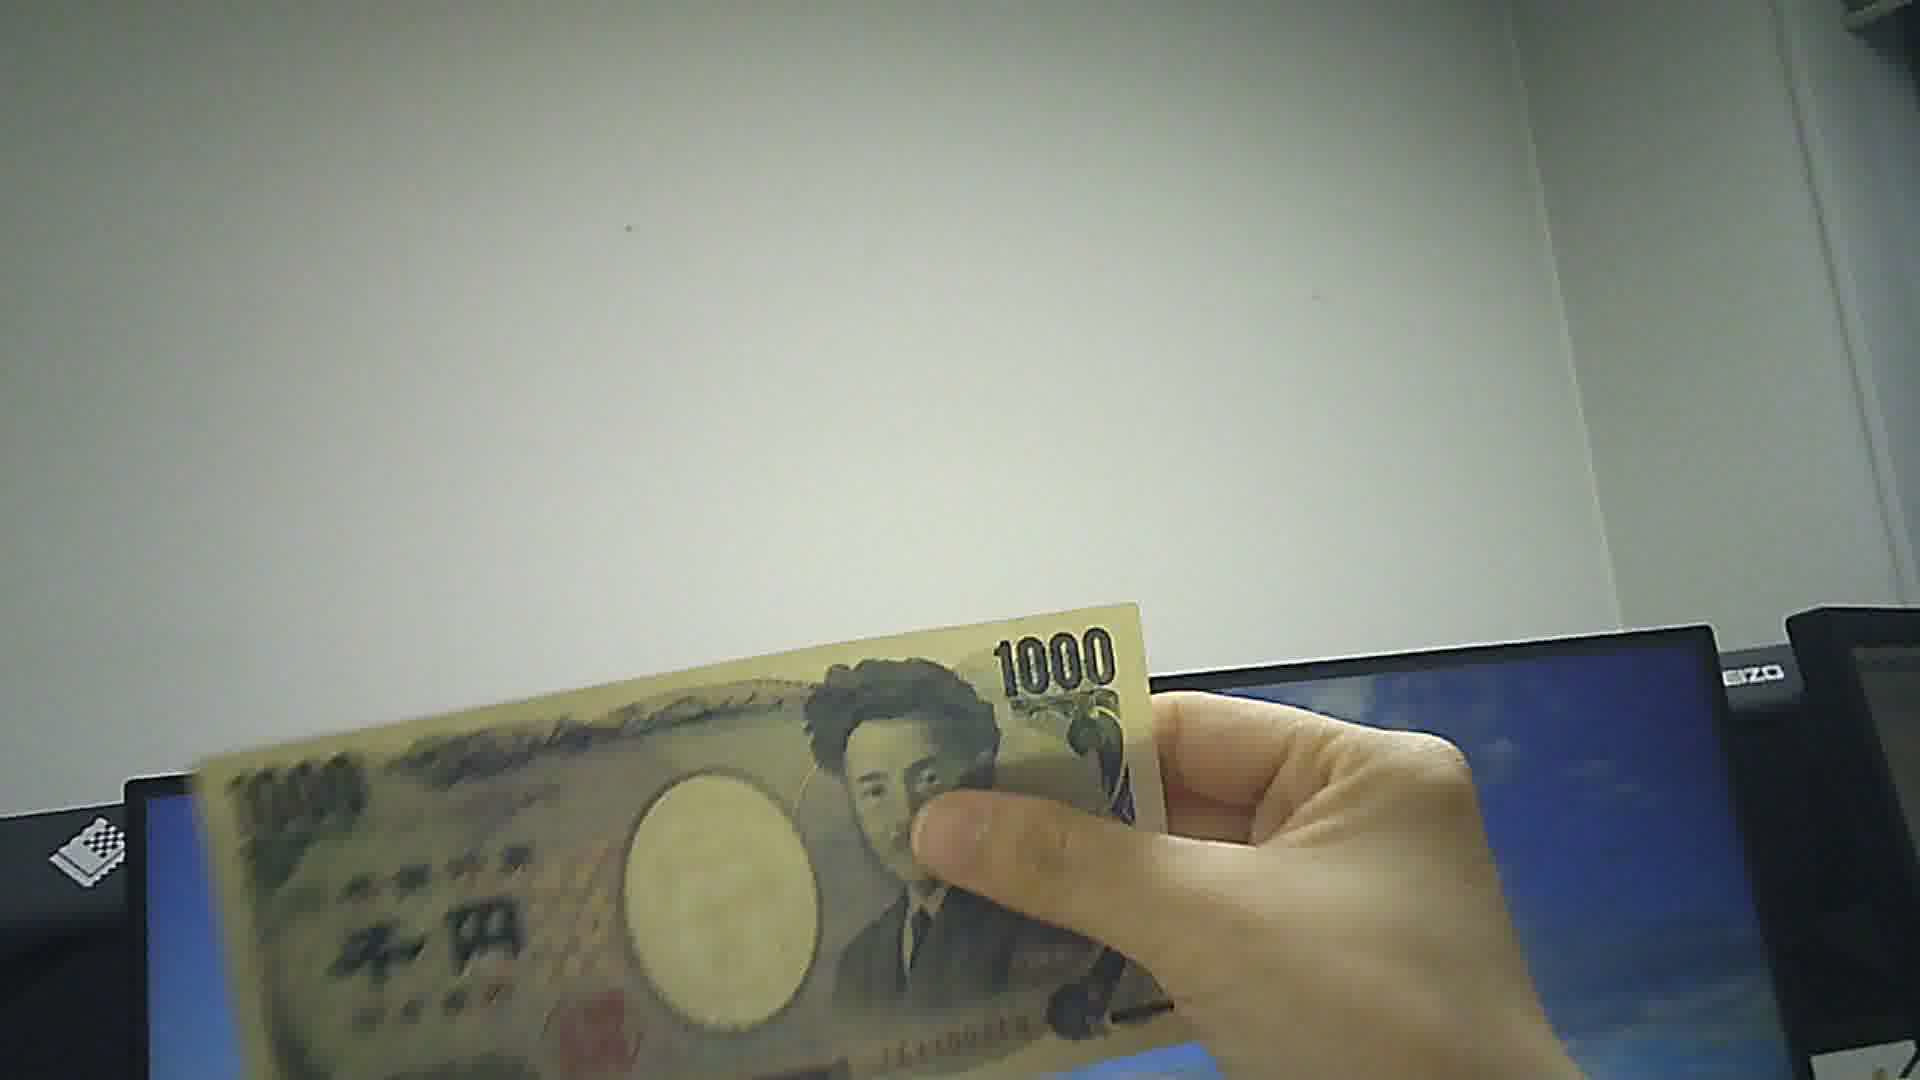1,000 Yen: (165, 605, 1216, 1079)
